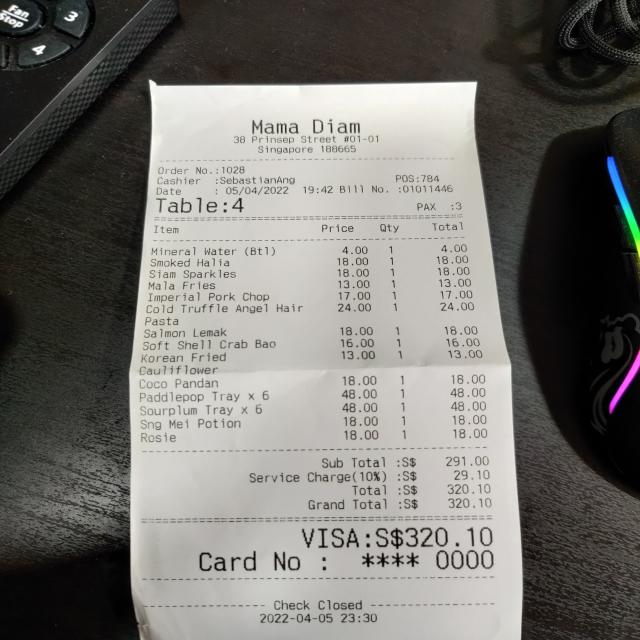bill_region: (136, 239, 510, 553)
